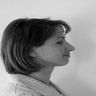ear: (24, 41, 41, 60)
